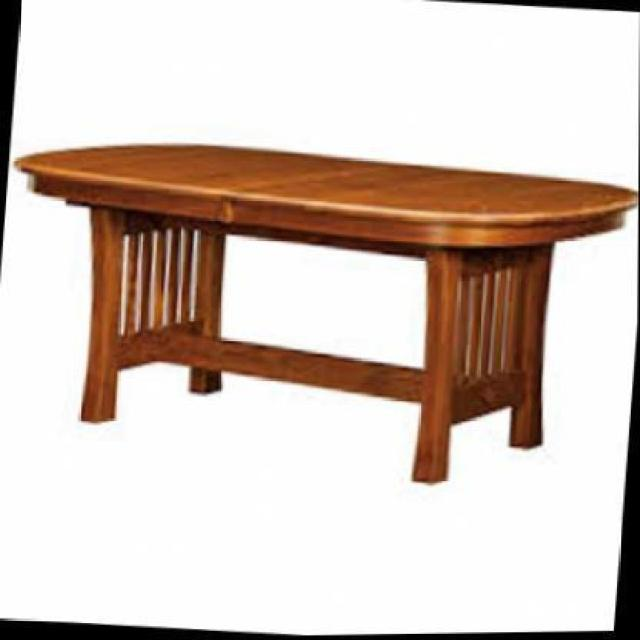tables: (12, 140, 638, 483)
